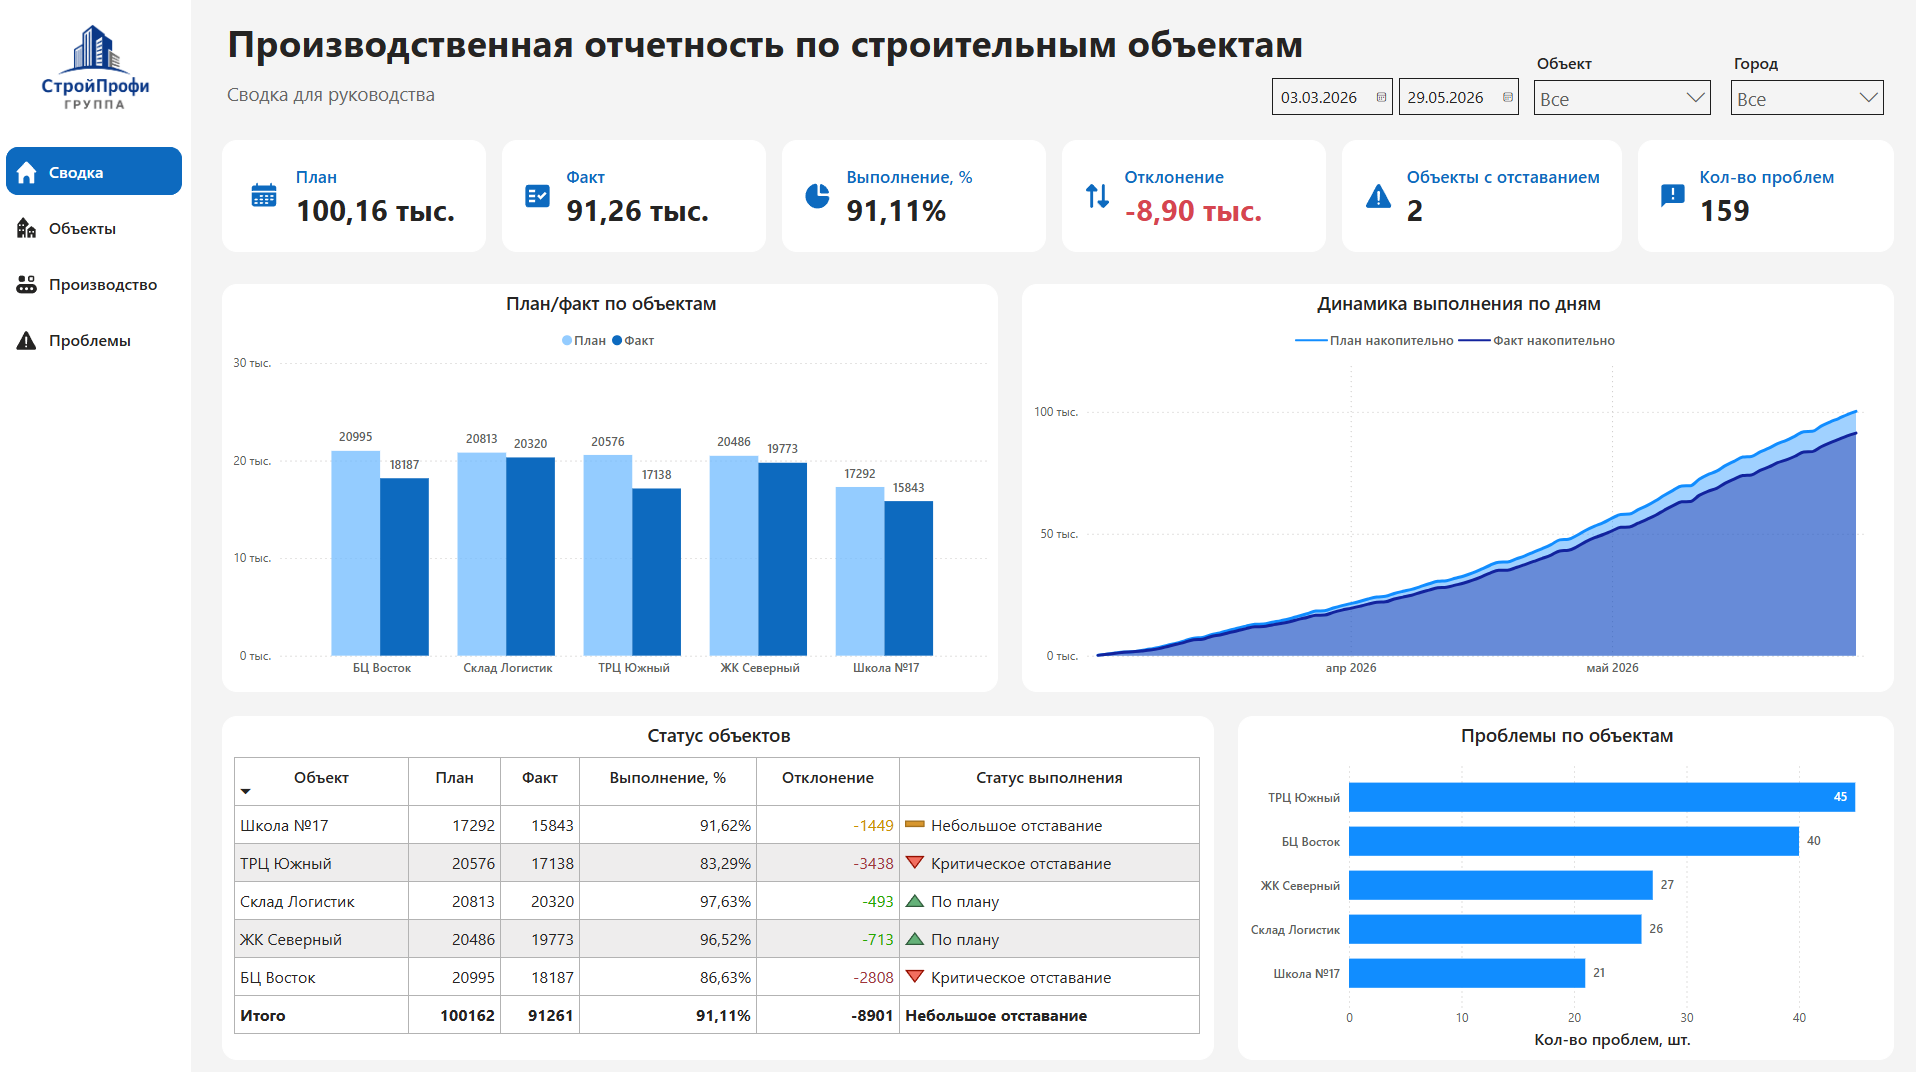

The page's visual inventory and layout, read from the dashboard file:
{"tool":"powerbi","page":{"name":"Сводка","canvas":[1920,1080],"ordinal":0},"visuals":[{"type":"shape","box":[0,0,192.5,1080],"z":0},{"type":"textbox","box":[46.5,160,82.2,31.1],"z":0,"group":"g1"},{"type":"textbox","box":[46.5,216,82.2,31.1],"z":0,"group":"g2"},{"type":"textbox","box":[46.2,272,121.7,31.2],"z":0,"group":"g3"},{"type":"textbox","box":[46.2,328,121.7,31.2],"z":0,"group":"g4"},{"type":"shape","box":[7.7,151.4,175.9,47.7],"z":1000},{"type":"image","box":[16,163.2,24.9,25.6],"z":1000,"group":"g1"},{"type":"image","box":[16,219.2,24.9,25.6],"z":1000,"group":"g2"},{"type":"image","box":[16,275.4,24.9,25.6],"z":1000,"group":"g3"},{"type":"image","box":[16,331.4,24.9,25.6],"z":1000,"group":"g4"},{"type":"group","id":"g1","title":"Группа 1","box":[16,160,112,24],"z":2000},{"type":"group","id":"g2","title":"Группа 1","box":[16,216,112,32],"z":3000},{"type":"group","id":"g3","title":"Группа 1","box":[16,272,152,32],"z":4000},{"type":"group","id":"g4","title":"Группа 1","box":[16,328,152,32],"z":5000},{"type":"textbox","box":[224,16,1088,64],"z":6000},{"type":"textbox","box":[224,80,256,40],"z":7000},{"type":"cardVisual","title":"43","fields":{"Data":["Меры.План"]},"box":[224,144,264,112],"z":8000},{"type":"cardVisual","title":"43","fields":{"Data":["Меры.Факт"]},"box":[504,144,264,112],"z":9000},{"type":"cardVisual","title":"43","fields":{"Data":["Меры.Выполнение, %"]},"box":[784,144,264,112],"z":10000},{"type":"cardVisual","title":"43","fields":{"Data":["Меры.Отклонение"]},"box":[1064,144,264,112],"z":11000},{"type":"cardVisual","title":"43","fields":{"Data":["Меры.Объекты с отставанием"]},"box":[1344,144,280,112],"z":12000},{"type":"cardVisual","title":"43","fields":{"Data":["Меры.Кол-во проблем"]},"box":[1640,144,256,112],"z":13000},{"type":"clusteredColumnChart","title":"План/факт по объектам","fields":{"Y":["Меры.План","Меры.Факт"],"Category":["DimObjects.ObjectName"]},"box":[224,288,776,408],"z":14000},{"type":"tableEx","title":"Статус объектов","fields":{"Values":["DimObjects.ObjectName","Меры.План","Меры.Факт","Меры.Выполнение, %","Меры.Отклонение","Меры.Статус выполнения"]},"box":[224,720,992,344],"z":15000},{"type":"clusteredBarChart","title":"Проблемы по объектам","fields":{"Category":["DimObjects.ObjectName"],"Y":["Меры.Кол-во проблем"]},"box":[1240,720,656,344],"z":16000},{"type":"lineChart","title":"Динамика выполнения по дням","fields":{"Y":["Меры.План накопительно","Меры.Факт накопительно"],"Category":["Calendar.Date.Изменение.Иерархия дат.Год"]},"box":[1024,288,872,408],"z":17000},{"type":"slicer","fields":{"Values":["Calendar.Date"]},"box":[1261,72,272,56],"z":18000},{"type":"slicer","title":"Объект","fields":{"Values":["DimObjects.ObjectName"]},"box":[1526,51,197,97],"z":19000},{"type":"slicer","title":"Объект","fields":{"Values":["DimObjects.City"]},"box":[1723,51,173,97],"z":20000},{"type":"image","box":[23,0,146,152],"z":21000},{"type":"actionButton","box":[7.9,148.2,175.7,52],"z":21001},{"type":"actionButton","box":[7.9,205.2,175.7,52],"z":21002},{"type":"actionButton","box":[7.9,262.1,175.7,52],"z":21003},{"type":"actionButton","box":[7.9,318,175.7,52],"z":21004}]}

Visuals, with their boxes in screenshot pixels (x1, y1, x2, y2), scaled from the page's 1920x1080 canvas onto the 1916x1072 screenshot:
shape: region(0, 0, 192, 1071)
textbox: region(46, 159, 128, 190)
textbox: region(46, 214, 128, 245)
textbox: region(46, 270, 168, 301)
textbox: region(46, 326, 168, 357)
shape: region(8, 150, 183, 198)
image: region(16, 162, 41, 187)
image: region(16, 218, 41, 243)
image: region(16, 273, 41, 299)
image: region(16, 329, 41, 354)
"Группа 1" group: region(16, 159, 128, 183)
"Группа 1" group: region(16, 214, 128, 246)
"Группа 1" group: region(16, 270, 168, 302)
"Группа 1" group: region(16, 326, 168, 357)
textbox: region(224, 16, 1309, 79)
textbox: region(224, 79, 479, 119)
"43" cardVisual: region(224, 143, 487, 254)
"43" cardVisual: region(503, 143, 766, 254)
"43" cardVisual: region(782, 143, 1046, 254)
"43" cardVisual: region(1062, 143, 1325, 254)
"43" cardVisual: region(1341, 143, 1621, 254)
"43" cardVisual: region(1637, 143, 1892, 254)
"План/факт по объектам" clusteredColumnChart: region(224, 286, 998, 691)
"Статус объектов" tableEx: region(224, 715, 1213, 1056)
"Проблемы по объектам" clusteredBarChart: region(1237, 715, 1892, 1056)
"Динамика выполнения по дням" lineChart: region(1022, 286, 1892, 691)
slicer - Calendar.Date: region(1258, 71, 1530, 127)
"Объект" slicer: region(1523, 51, 1719, 147)
"Объект" slicer: region(1719, 51, 1892, 147)
image: region(23, 0, 169, 151)
actionButton: region(8, 147, 183, 199)
actionButton: region(8, 204, 183, 255)
actionButton: region(8, 260, 183, 312)
actionButton: region(8, 316, 183, 367)
